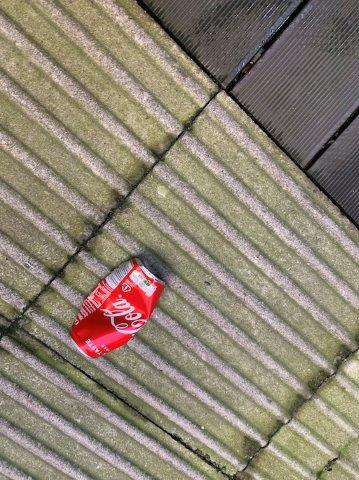kaleng: (70, 259, 164, 357)
